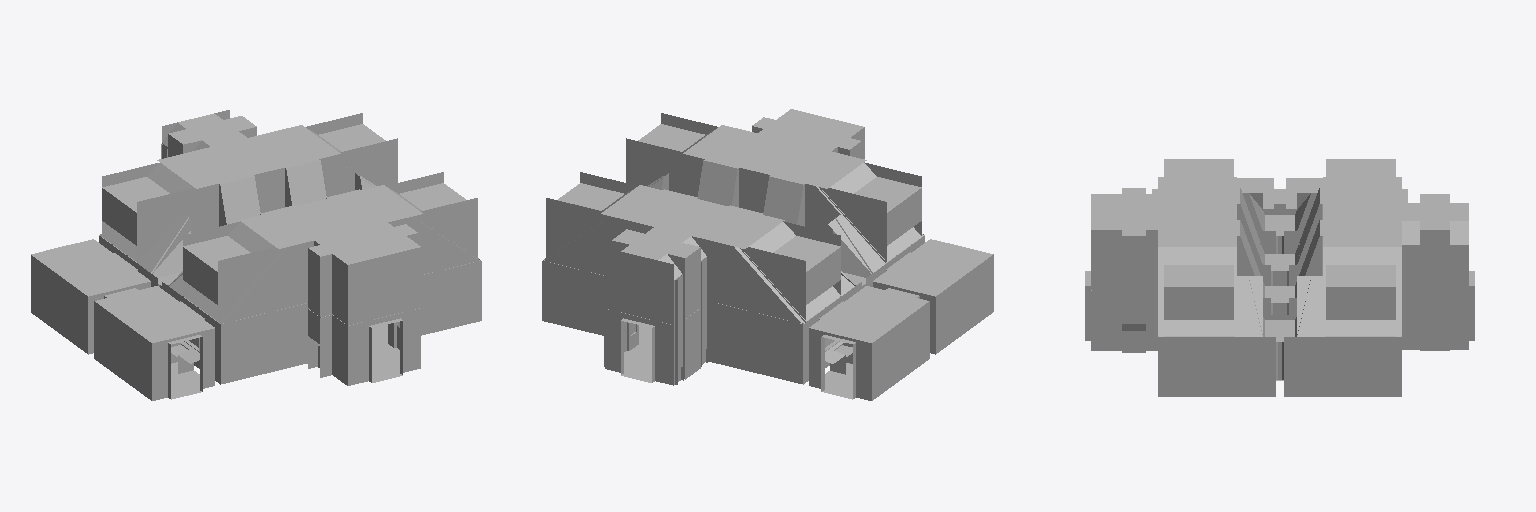
File: Room2_Checkpoint_LCZ_HCZ.obj
3 renders of one model, left to right at view 1: azimuth 30°, elevation 25°; view 2: azimuth 150°, elevation 25°; view 3: azimuth 270°, elevation 25°, orthographic.
Parts seen in each view (by area): view 1: Scene_Root; view 2: Scene_Root; view 3: Scene_Root.
Part boxes in pixels (x1,y1,x2,y2): Scene_Root: (31,110,481,400); Scene_Root: (542,109,993,400); Scene_Root: (1085,159,1474,396).
Size of the model in its own units: 20 by 7.04 by 20.48.